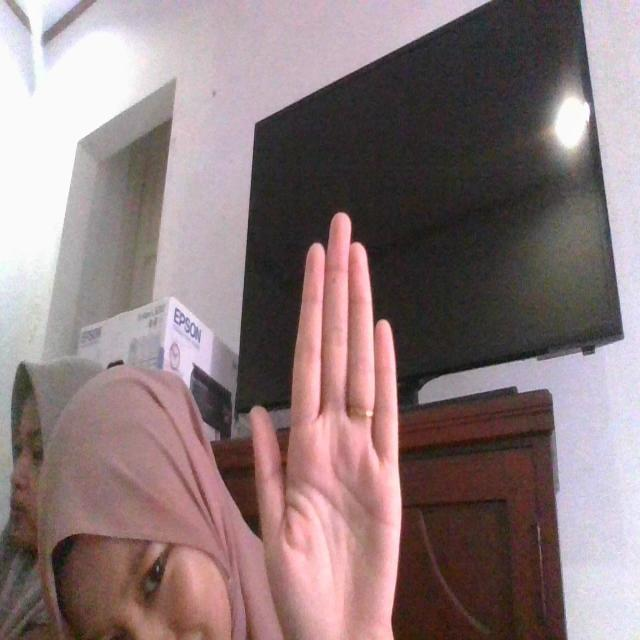hand: (252, 201, 418, 640)
